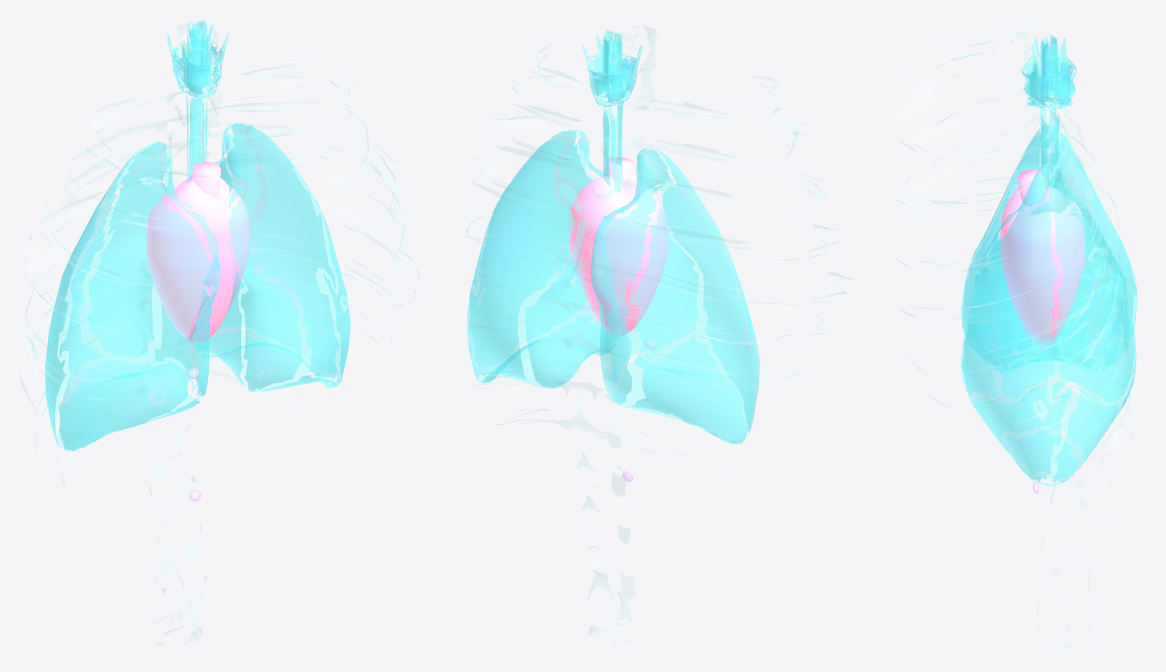
Rendered from heart-anatomical-responding-2.glb.
The picture shows the model from 3 angles, left to right: view 1: azimuth 30°, elevation 25°; view 2: azimuth 150°, elevation 25°; view 3: azimuth 270°, elevation 25°; orthographic projection. The views are drawn at different scales.
Visible parts, largest first — view 1: Lungs, Ribcage, Heart, AortaAnat; view 2: Lungs, Ribcage, Heart, AortaAnat; view 3: Lungs, Ribcage, Heart, AortaAnat.
Boxes of the visible parts, <box> form: Lungs: <box>45,20,350,451</box>; Ribcage: <box>15,17,424,655</box>; Heart: <box>146,176,249,343</box>; AortaAnat: <box>191,161,220,196</box>; Lungs: <box>467,31,759,444</box>; Ribcage: <box>464,14,855,647</box>; Heart: <box>569,174,667,336</box>; AortaAnat: <box>606,157,634,185</box>; Lungs: <box>960,34,1137,485</box>; Ribcage: <box>896,16,1136,654</box>; Heart: <box>1000,186,1085,347</box>; AortaAnat: <box>1018,169,1047,205</box>.
Bounding box in the file's own units: 1.21 × 1.94 × 0.7414.
